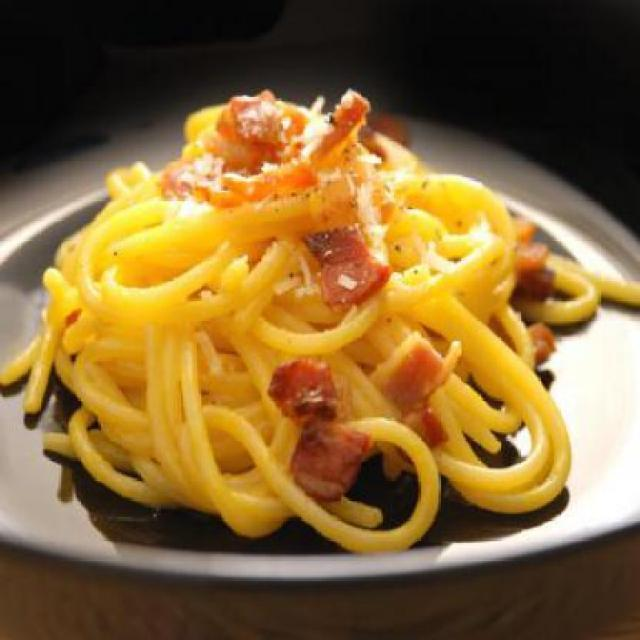Pasta with carbonara sauce: (36, 51, 570, 558)
